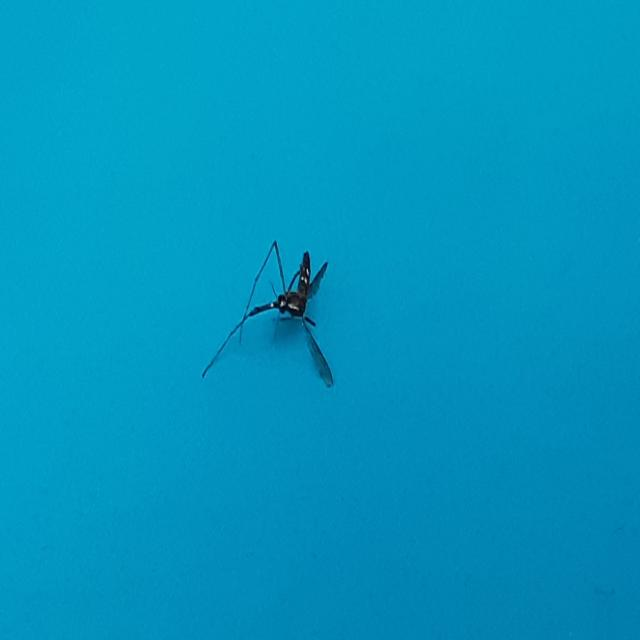albopictus: (205, 230, 337, 401)
